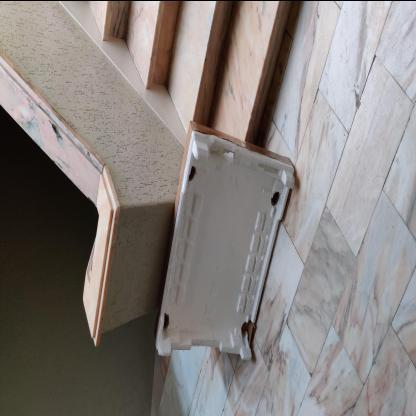kopuk: (156, 121, 297, 363)
